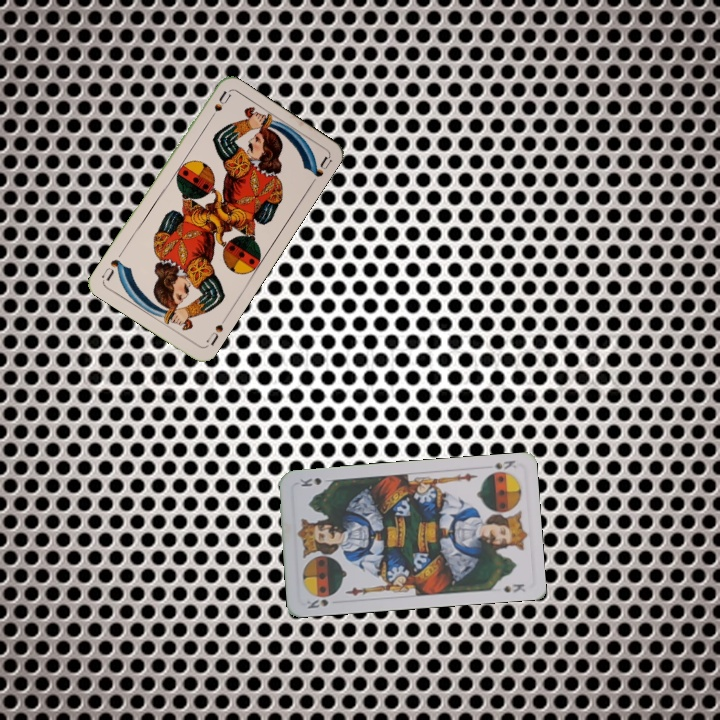SK: (483, 456, 518, 478), (303, 591, 337, 611)
SU: (204, 87, 233, 125), (202, 313, 229, 348)
